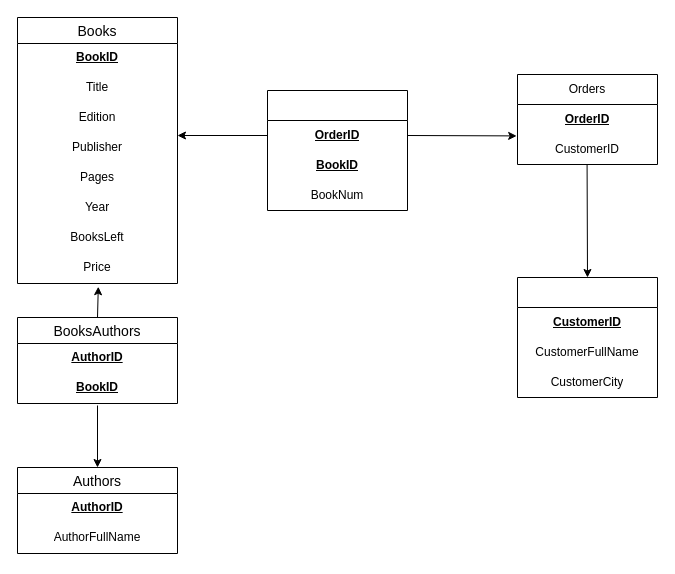
Image size: 675x574. Some labels were removed from this diagram. The shapes that lost their labels are listed below. From the top down, each one's box as (x1, y1, x2, y2) in pixels, then its label:
(266, 90, 408, 210): OrderedBooks
(516, 276, 658, 398): Customers
